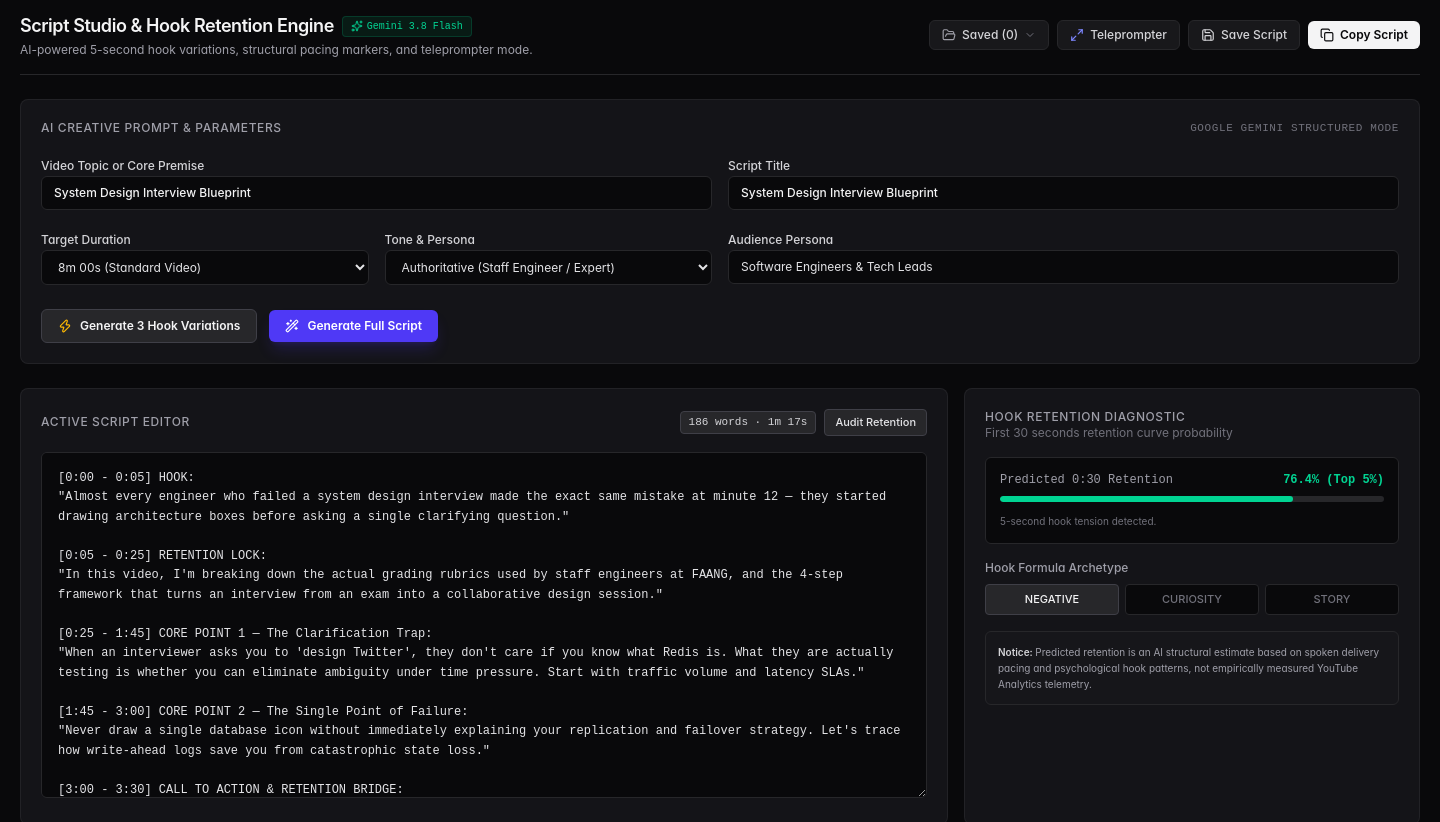
Test: ScriptStudioPage Component Tests › copies script to clipboard with visual confirmation
Step 1. Click the button "Copy Script" → coordinates (1364, 35), box [1308, 21, 1420, 49]
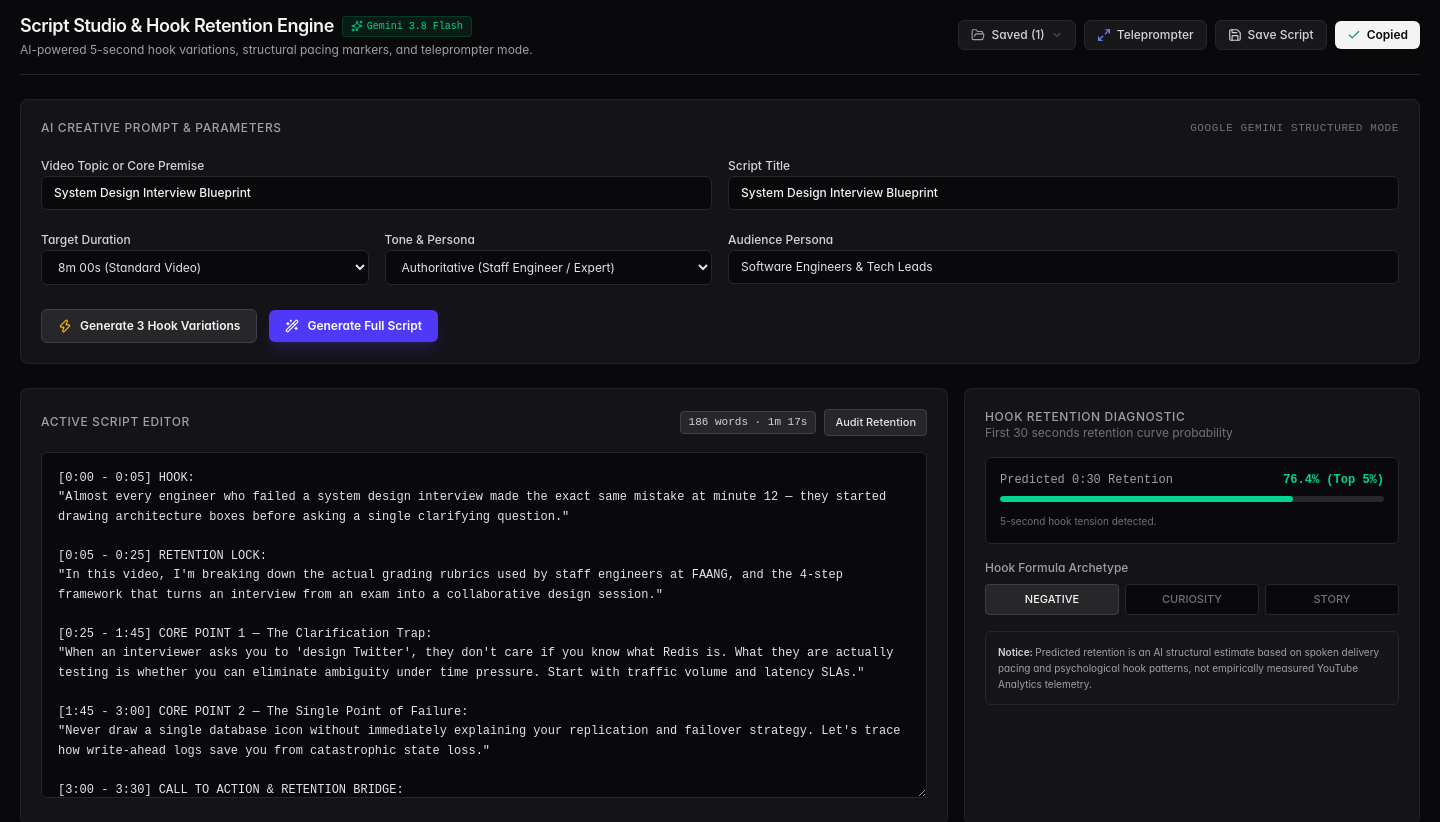
Result: the text "Copied" is shown at [1367, 27, 1408, 43]
